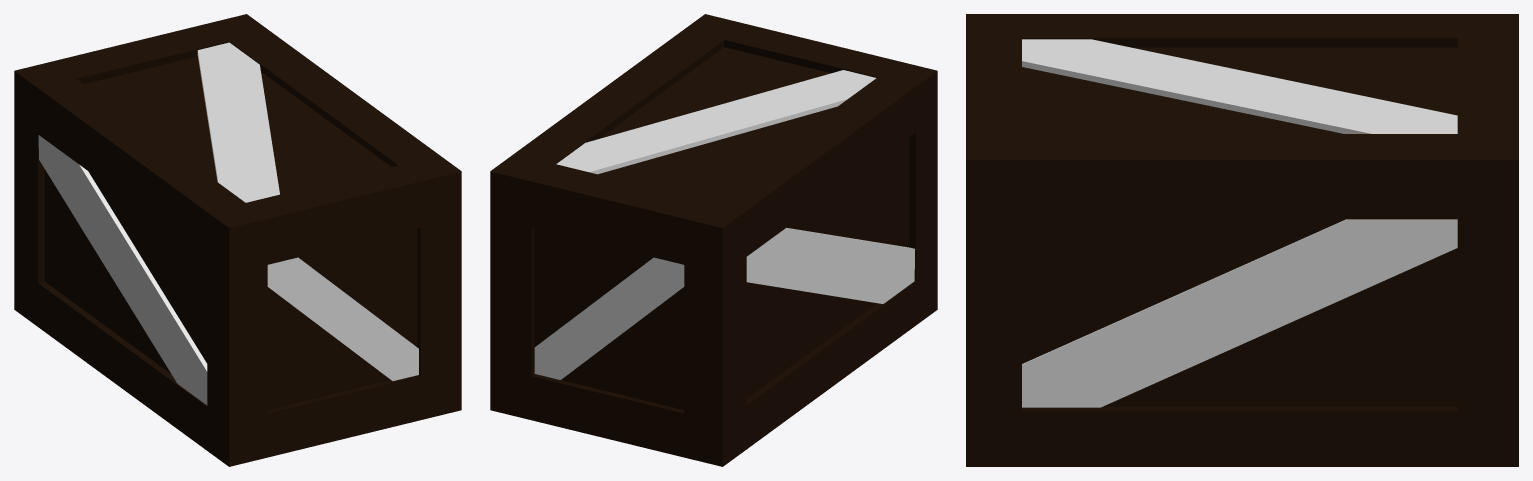
The model's file is LongCrate.FBX.
3 views of the same model, side by side, from view 1: azimuth 30°, elevation 25°; view 2: azimuth 150°, elevation 25°; view 3: azimuth 270°, elevation 25° (orthographic). The views are drawn at different scales.
Visible parts, largest first — view 1: Box001, Box004, Box002, Box006; view 2: Box001, Box002, Box004, Box005; view 3: Box001, Box003, Box002.
Boxes of the visible parts, box(x1,y1,x2,y2) form: Box001: box(14, 14, 461, 466); Box004: box(38, 135, 207, 405); Box002: box(197, 42, 279, 202); Box006: box(267, 257, 418, 380); Box001: box(490, 14, 937, 466); Box002: box(556, 70, 876, 174); Box004: box(746, 228, 914, 303); Box005: box(534, 257, 684, 379); Box001: box(966, 14, 1518, 466); Box003: box(1022, 219, 1457, 407); Box002: box(1022, 39, 1457, 133).
Bounding box in the file's own units: 26.89 × 26.38 × 43.04.
